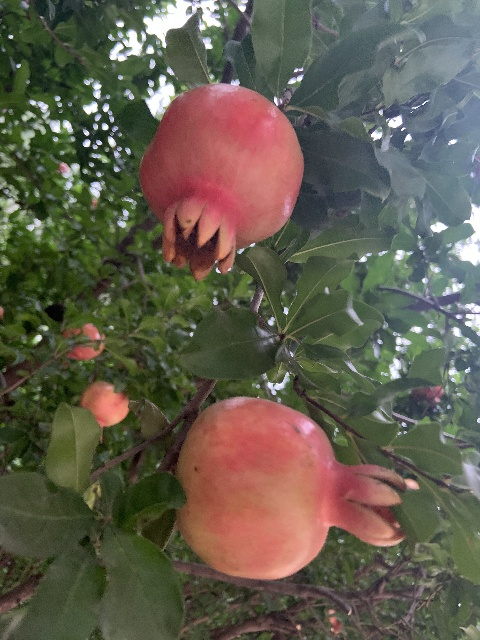ripe: (174, 396, 412, 581), (139, 82, 304, 280), (79, 380, 130, 443), (62, 322, 105, 370), (412, 385, 443, 405)
